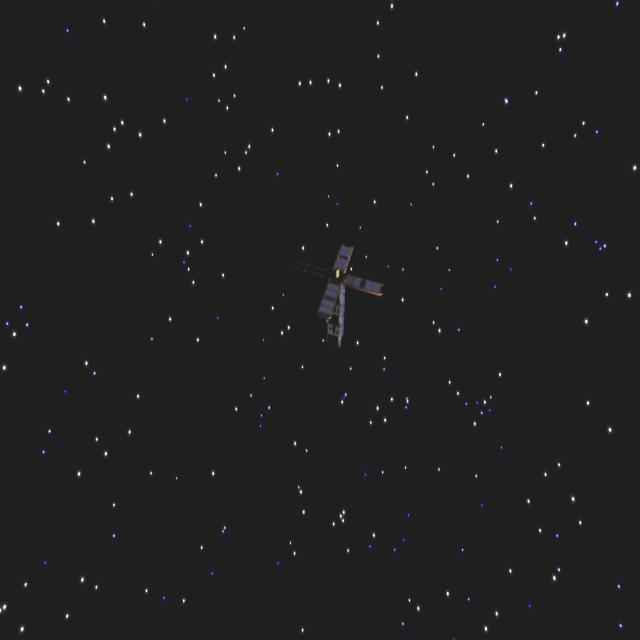medium_debris: (311, 237, 388, 348)
